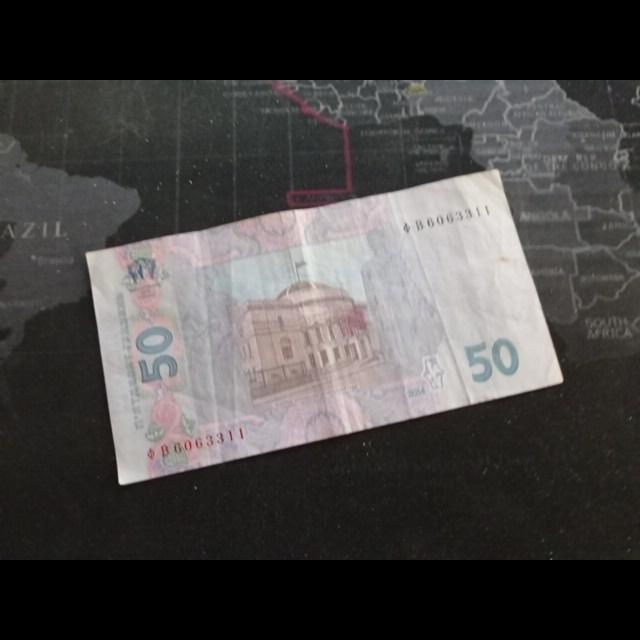50uah: (84, 169, 566, 486)
